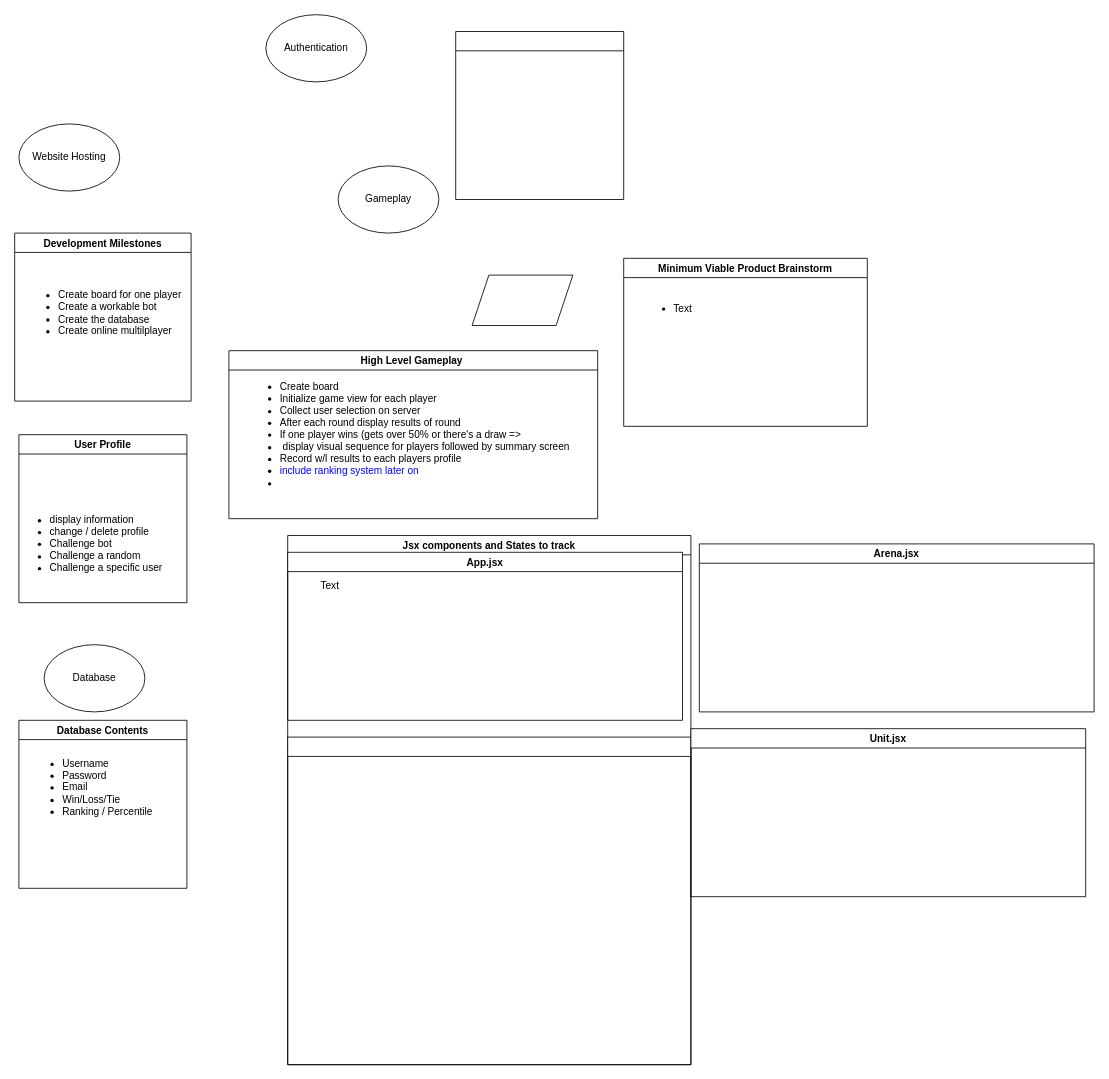
Image size: 1109x1079. Some labels were removed from this diagram. The shapes that lost their labels are listed below. From the top down, each one's centre as x and y in pixels, then its label:
[539,115]: Authentication/Security
[522,300]: Make some bots Good bot Bad bot
[489,900]: Row.jsx
